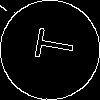T: (25, 25, 76, 64)
